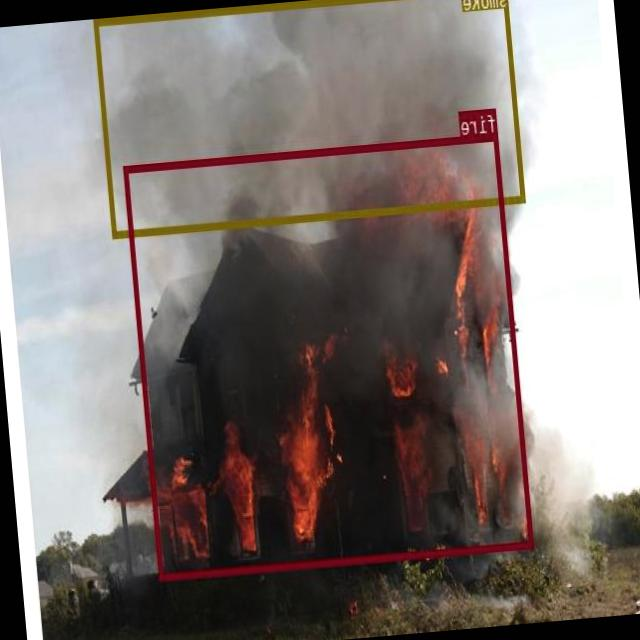fire: (123, 133, 534, 579)
smoke: (94, 0, 525, 235)
